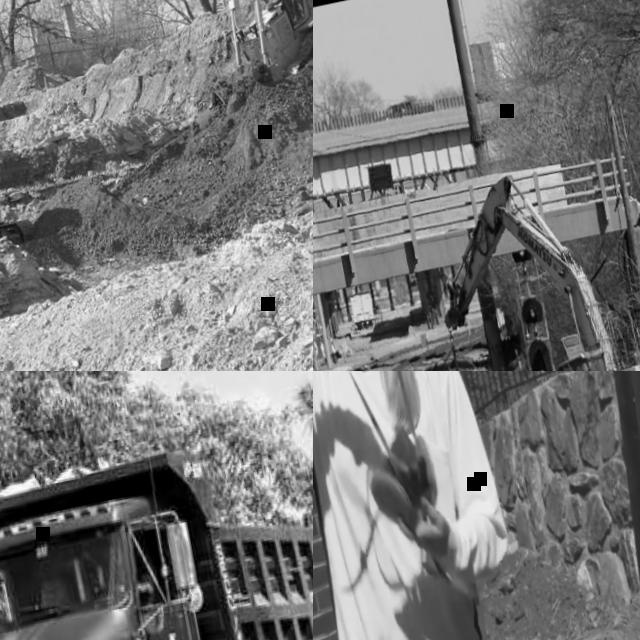Mask: (361, 419, 450, 542)
NO-Safety Vest: (313, 371, 503, 640)
Person: (313, 371, 548, 640)
Safety Cone: (344, 336, 351, 356), (343, 348, 350, 365), (349, 345, 355, 358)
machinery: (0, 428, 313, 640), (420, 142, 640, 371), (216, 0, 313, 87)
vehicle: (466, 30, 537, 102), (376, 94, 445, 124), (350, 292, 381, 331)
